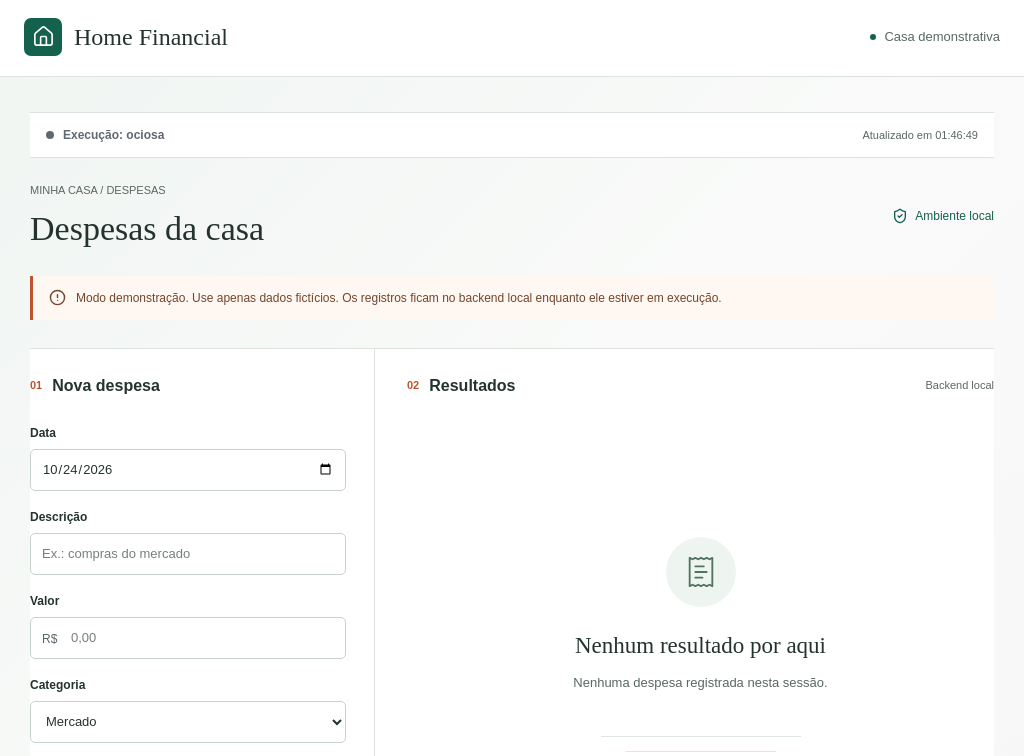
Test: form/run/results/history integration (AC-P0.3, P0.7 prototype) › submits automatic categorization and shows the category returned by the backend
Type "2026-10-09" into the date field labelled "Data" at (188, 470), box [30,449,346,491]
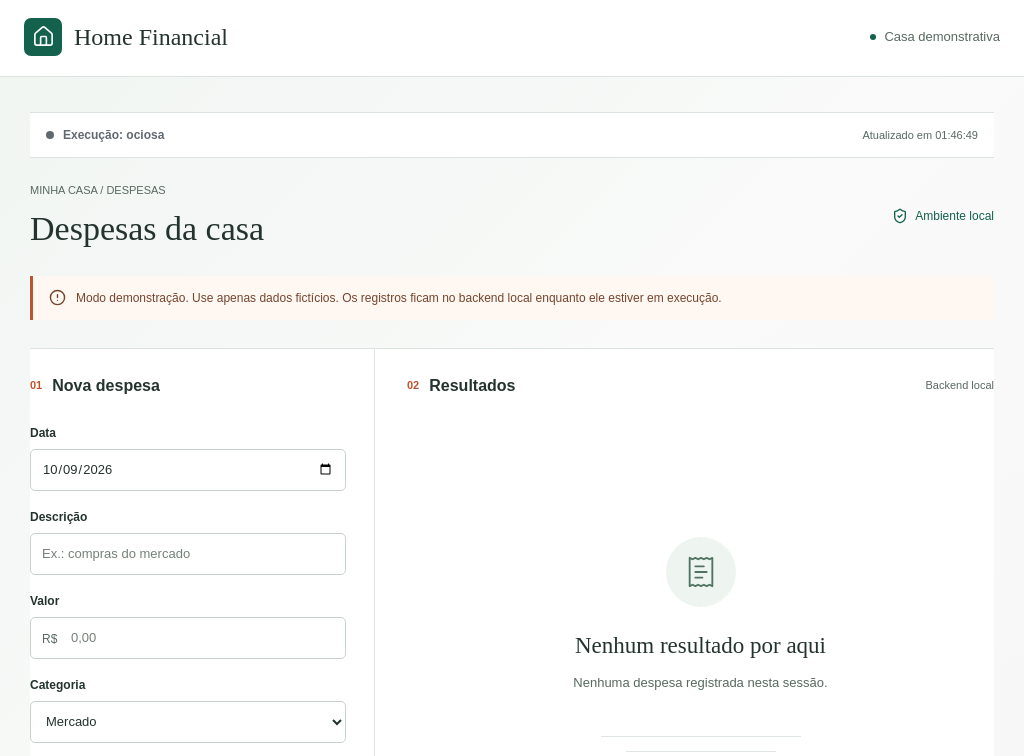
Type "Transporte demo" into the field labelled "Descrição" at (188, 554), box [30,533,346,575]
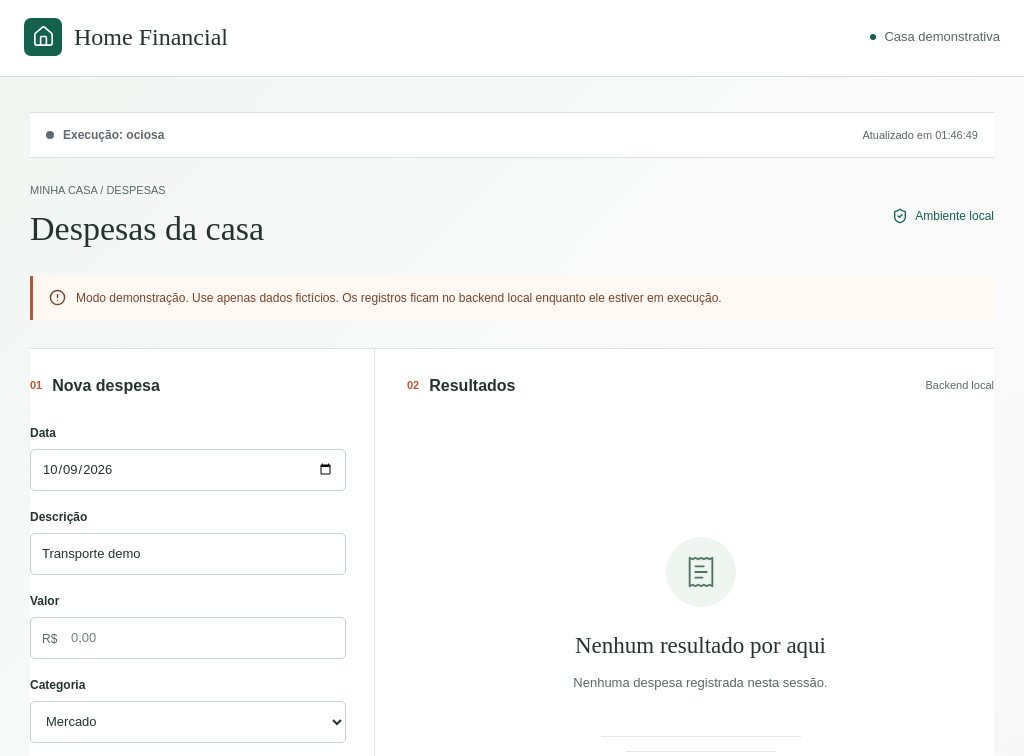
Type "123,45" into the field labelled "Valor" at (188, 638), box [30,617,346,659]
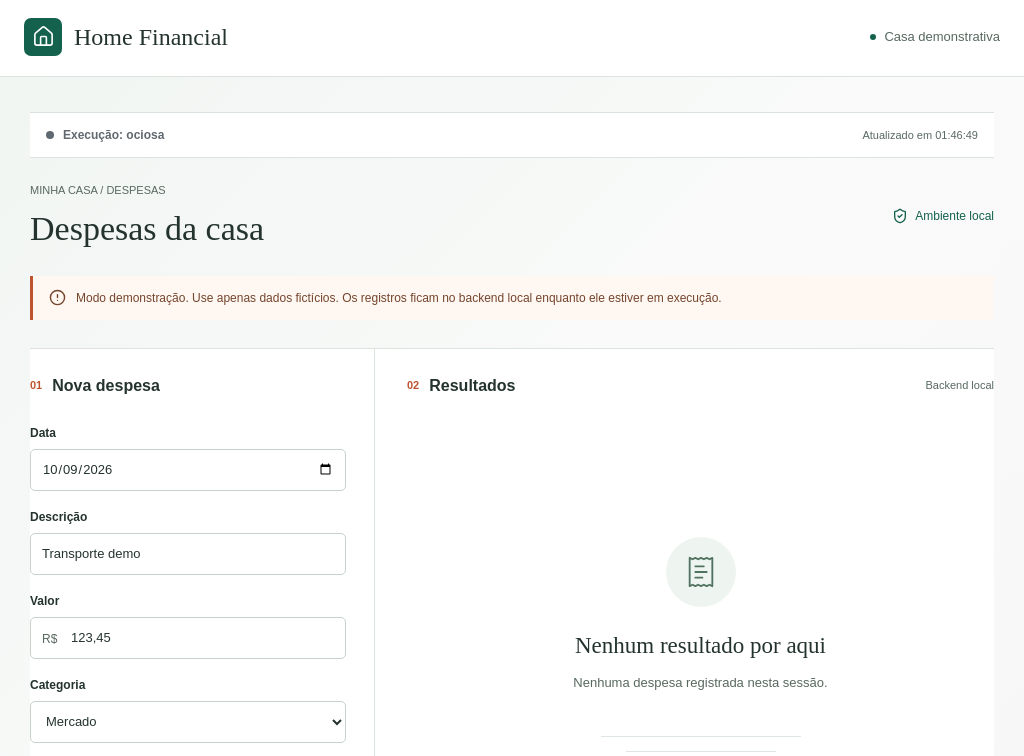
Select "Automatica" in the dropdown labelled "Categoria" at (188, 722), box [30,701,346,743]
(page scrolled)
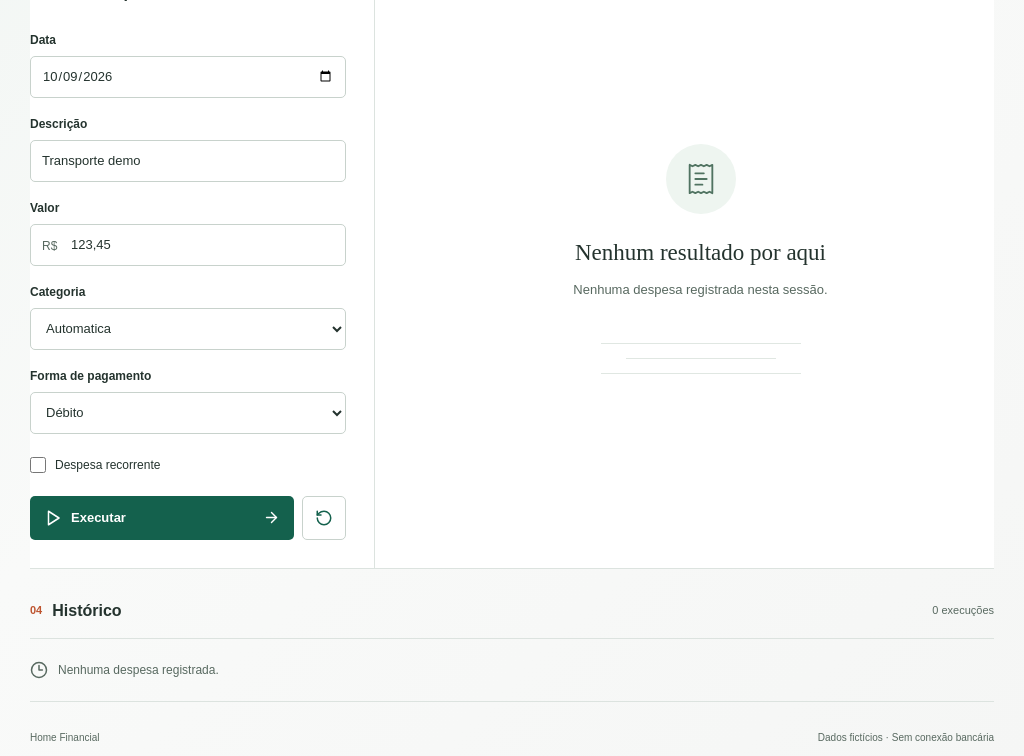
Click the button "Executar" at (98, 517), box [30,496,294,540]
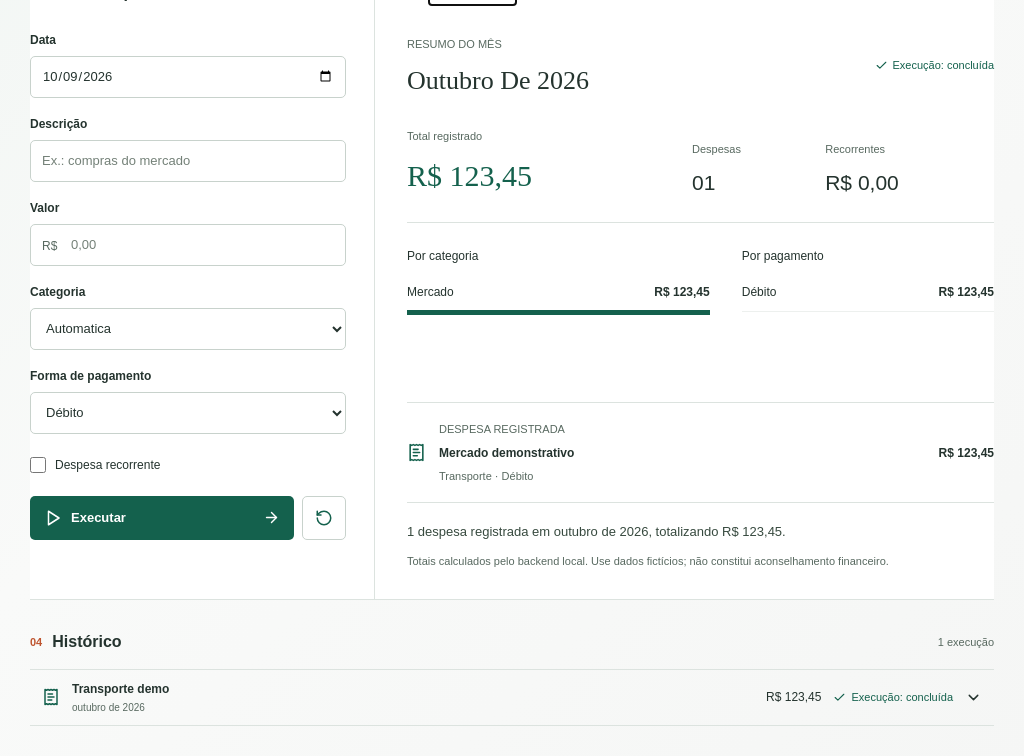
Expected: the element with class "record" shows "Transporte", [439,470,492,482]
